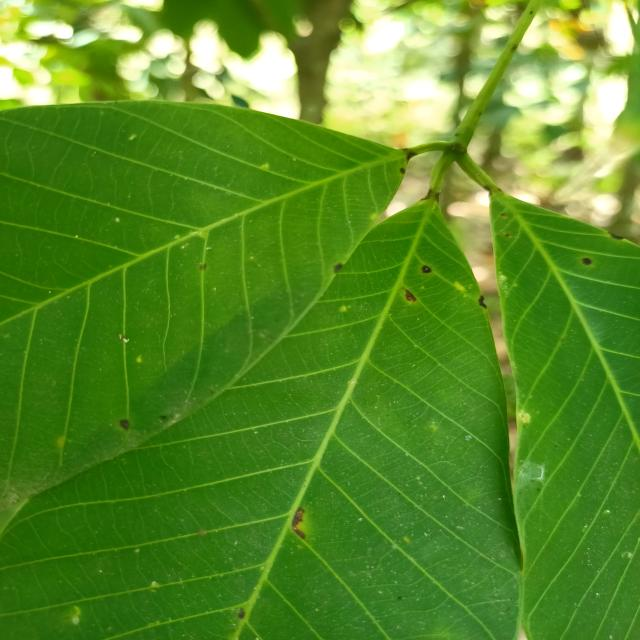Colletotrichum: (119, 420, 131, 430), (422, 265, 432, 273), (582, 258, 592, 265)
